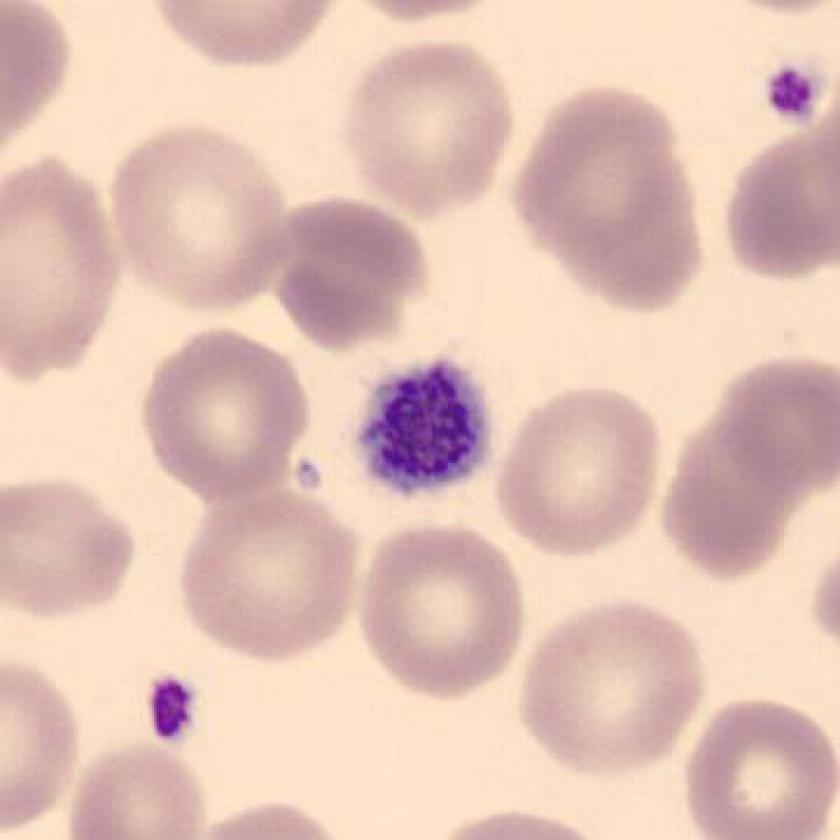platelets: (344, 348, 505, 503), (753, 54, 823, 140), (139, 663, 206, 751)
